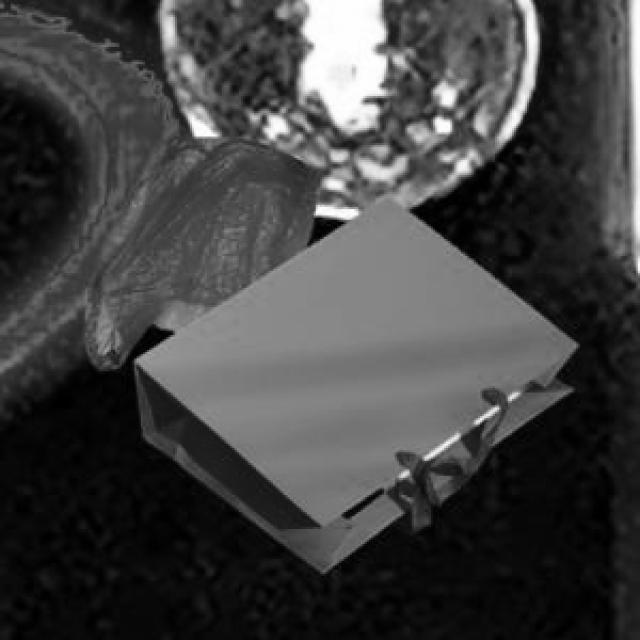paper: (130, 192, 574, 568)
